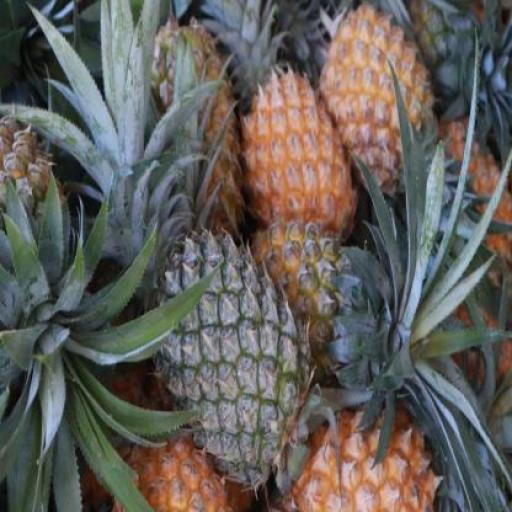Pineapple - v8 v1: (320, 0, 434, 207), (238, 72, 353, 253)
